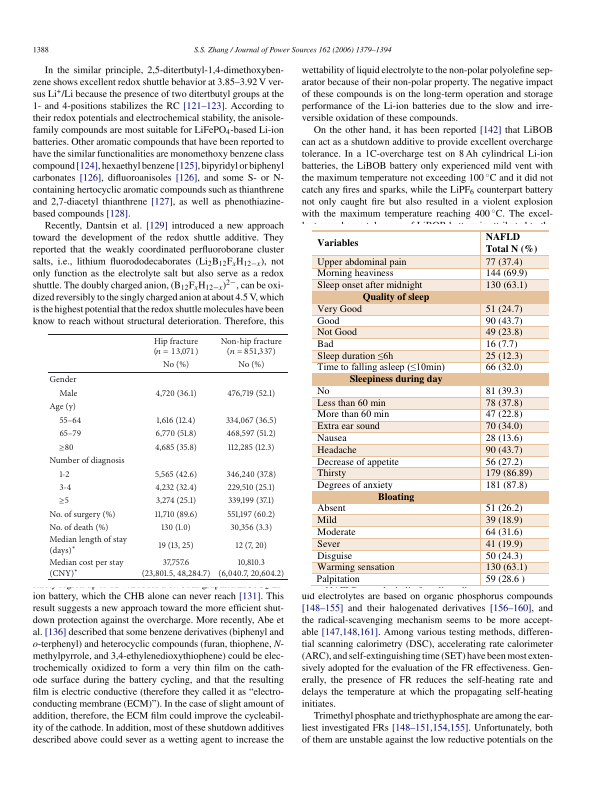borderless: (309, 229, 548, 587), (46, 332, 288, 579)
cell: (316, 360, 445, 375), (48, 534, 128, 556), (48, 557, 124, 579), (141, 557, 211, 579), (217, 557, 285, 579), (220, 336, 283, 359), (316, 279, 423, 292), (484, 231, 538, 256), (348, 373, 443, 386), (316, 256, 407, 269), (316, 349, 394, 364), (316, 455, 399, 469), (153, 336, 199, 359), (316, 561, 395, 574), (316, 267, 394, 280), (316, 479, 393, 492), (316, 408, 389, 421), (316, 397, 386, 410), (361, 291, 430, 304), (48, 455, 126, 466), (316, 420, 380, 433), (48, 509, 116, 519), (48, 522, 109, 533), (484, 467, 533, 480), (316, 303, 362, 316), (315, 573, 360, 586), (225, 415, 278, 426), (225, 469, 277, 480), (484, 267, 528, 280), (484, 279, 528, 292), (484, 479, 528, 492), (484, 561, 528, 574), (316, 237, 359, 250), (226, 388, 276, 399), (484, 314, 523, 328), (484, 455, 523, 469), (376, 490, 415, 504), (484, 549, 523, 563), (227, 482, 276, 493), (316, 326, 357, 339), (316, 444, 357, 457), (484, 573, 525, 586), (316, 526, 356, 539), (316, 549, 353, 563), (226, 429, 277, 439), (484, 256, 523, 269), (484, 303, 523, 316), (484, 326, 523, 339), (484, 350, 523, 363), (484, 361, 523, 374), (484, 385, 523, 398), (484, 397, 523, 410), (484, 408, 523, 421), (484, 420, 523, 433), (484, 432, 523, 445), (484, 444, 523, 457), (484, 502, 523, 515), (484, 514, 523, 527), (484, 526, 523, 539), (484, 538, 523, 551), (226, 509, 276, 519), (154, 388, 198, 399), (154, 469, 198, 480), (154, 482, 198, 493), (229, 522, 273, 533), (227, 442, 275, 452), (227, 496, 275, 506), (484, 338, 518, 351), (156, 415, 196, 426), (154, 442, 198, 452), (154, 509, 198, 519), (155, 429, 197, 439), (155, 496, 197, 506), (316, 432, 347, 445), (316, 467, 347, 480), (316, 502, 346, 515), (157, 540, 195, 550), (160, 522, 192, 533), (316, 314, 340, 328), (48, 374, 78, 385), (235, 540, 268, 550), (48, 401, 77, 412), (316, 538, 340, 551), (162, 360, 190, 370), (237, 360, 265, 370), (316, 514, 337, 527), (58, 415, 82, 426), (58, 429, 82, 439), (58, 439, 74, 454), (316, 338, 334, 351), (58, 388, 78, 399), (58, 492, 70, 508), (316, 385, 330, 398), (58, 482, 72, 493), (58, 469, 70, 480)
